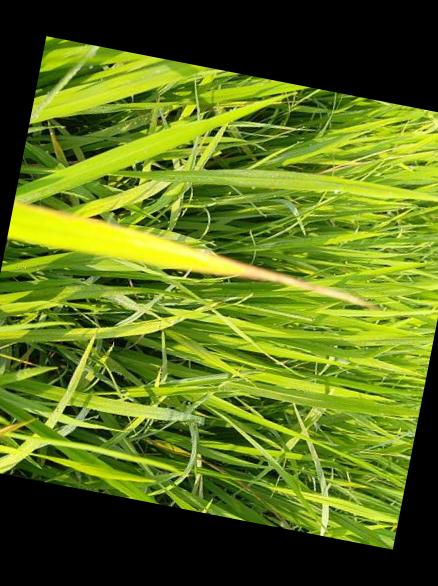Leaf Blight: (6, 200, 360, 302)
